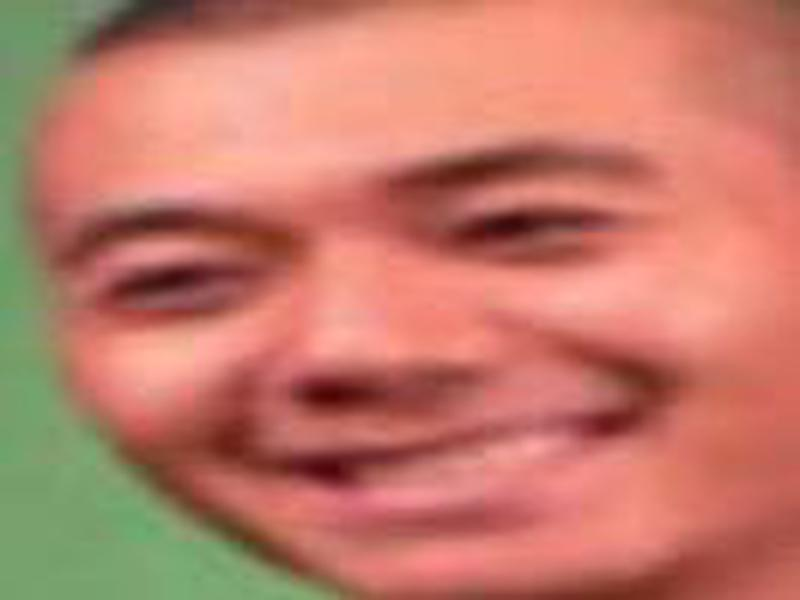without_mask: (36, 80, 800, 589)
